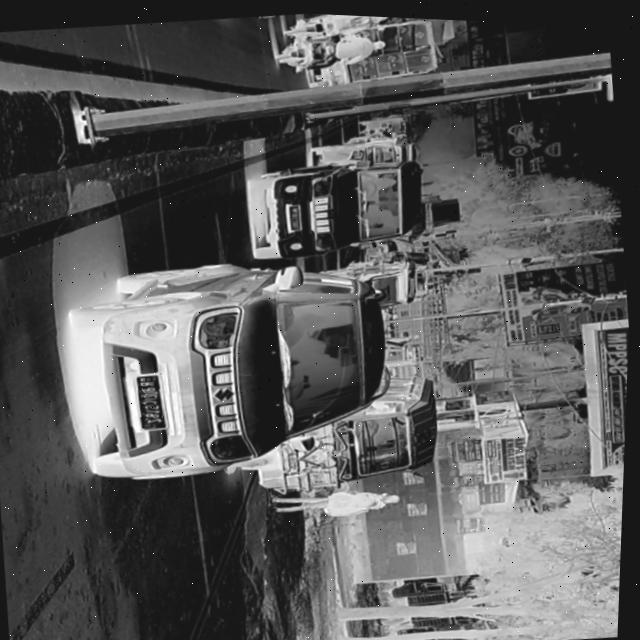0: (145, 388, 160, 394)
1: (147, 407, 162, 413)
2: (148, 415, 165, 423), (144, 393, 160, 399)
8: (147, 410, 164, 418), (148, 420, 165, 428)
C: (144, 397, 161, 404)
G: (145, 401, 162, 410)
IND: (147, 375, 159, 380)
Indian_registered: (139, 374, 166, 427)
J: (144, 384, 158, 390)
R: (140, 378, 159, 387)
